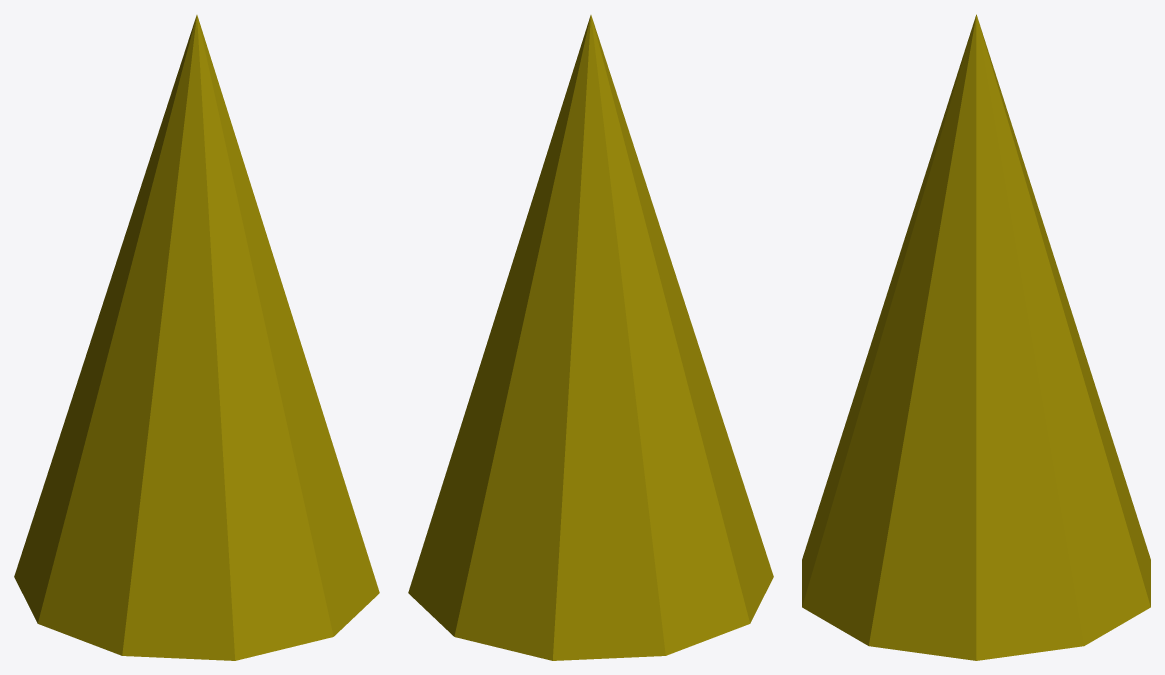
The model's file is enemy 1.fbx.
The picture shows the model from 3 angles, left to right: view 1: azimuth 30°, elevation 25°; view 2: azimuth 150°, elevation 25°; view 3: azimuth 270°, elevation 25°; orthographic projection.
Visible parts, largest first — view 1: pCone1; view 2: pCone1; view 3: pCone1.
Boxes of the visible parts, box(x1,y1,x2,y2) form: pCone1: box(14, 15, 379, 660); pCone1: box(408, 15, 773, 660); pCone1: box(802, 14, 1150, 660).
Bounding box in the file's own units: 140 × 240 × 133.
